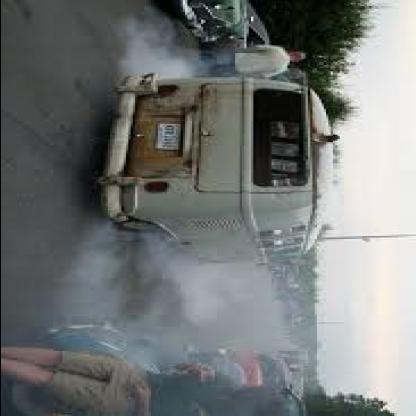Smoke: (98, 247, 172, 321), (126, 23, 192, 72)
